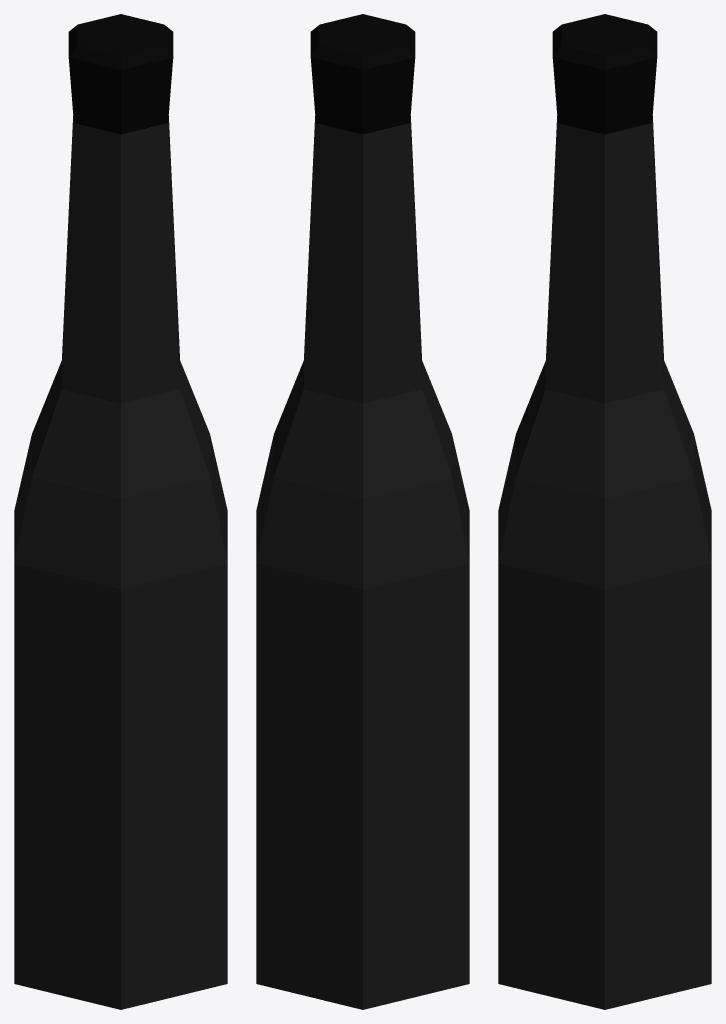
File: alcohol_A.FBX
3 renders of one model, left to right at view 1: azimuth 30°, elevation 25°; view 2: azimuth 150°, elevation 25°; view 3: azimuth 270°, elevation 25°, orthographic.
Parts seen in each view (by area): view 1: alcohol_A; view 2: alcohol_A; view 3: alcohol_A.
Part boxes in pixels (left/top/right/bottom): alcohol_A: left=14, top=14, right=227, bottom=1009; alcohol_A: left=256, top=14, right=469, bottom=1009; alcohol_A: left=498, top=14, right=711, bottom=1009.
Size of the model in its own units: 5.1 by 21.06 by 4.42.
